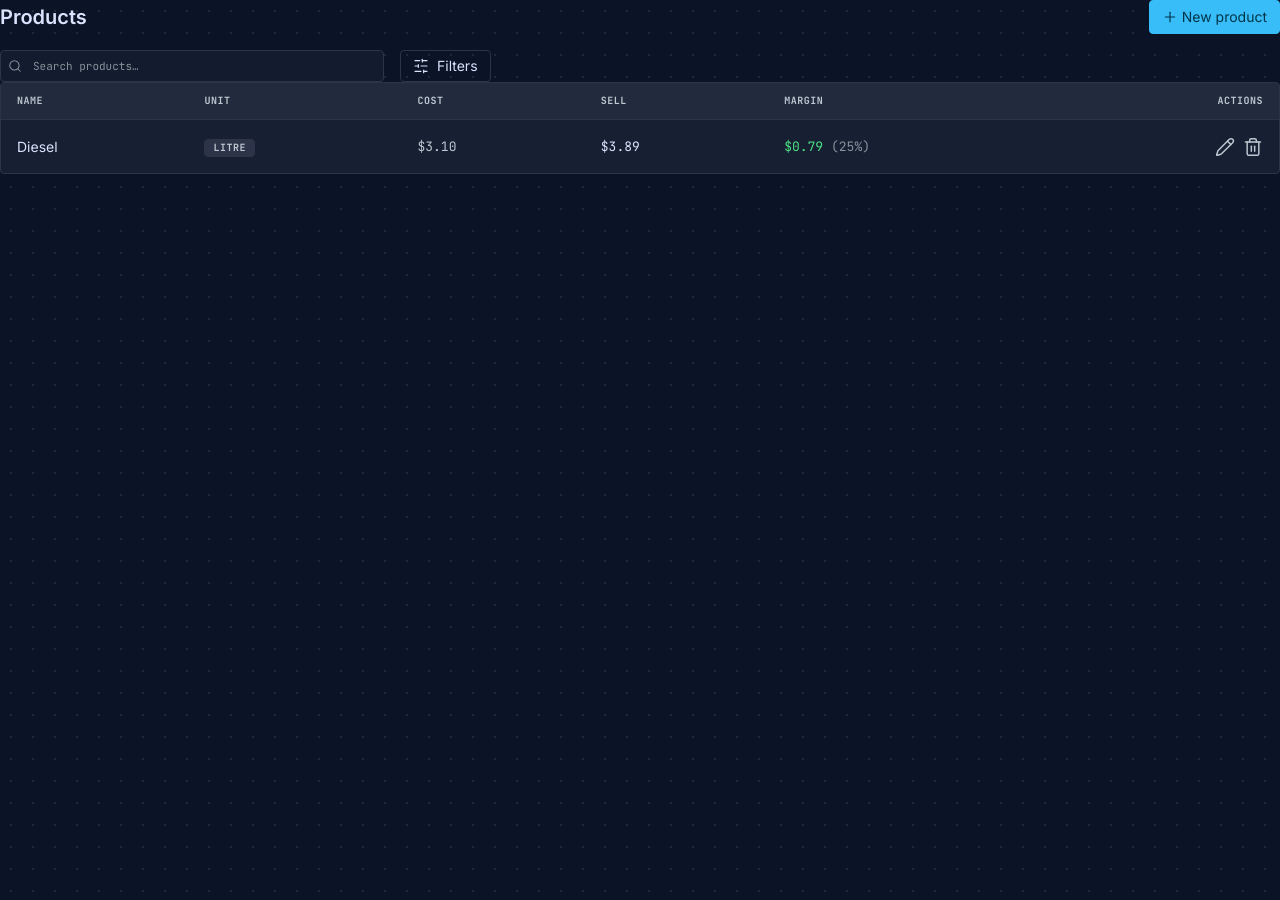
Test: Products page › requires a name
Expected: the text "Diesel" is shown, [1,120,188,173]
Click the button "New product" at (1214, 17), box [1149,0,1279,34]
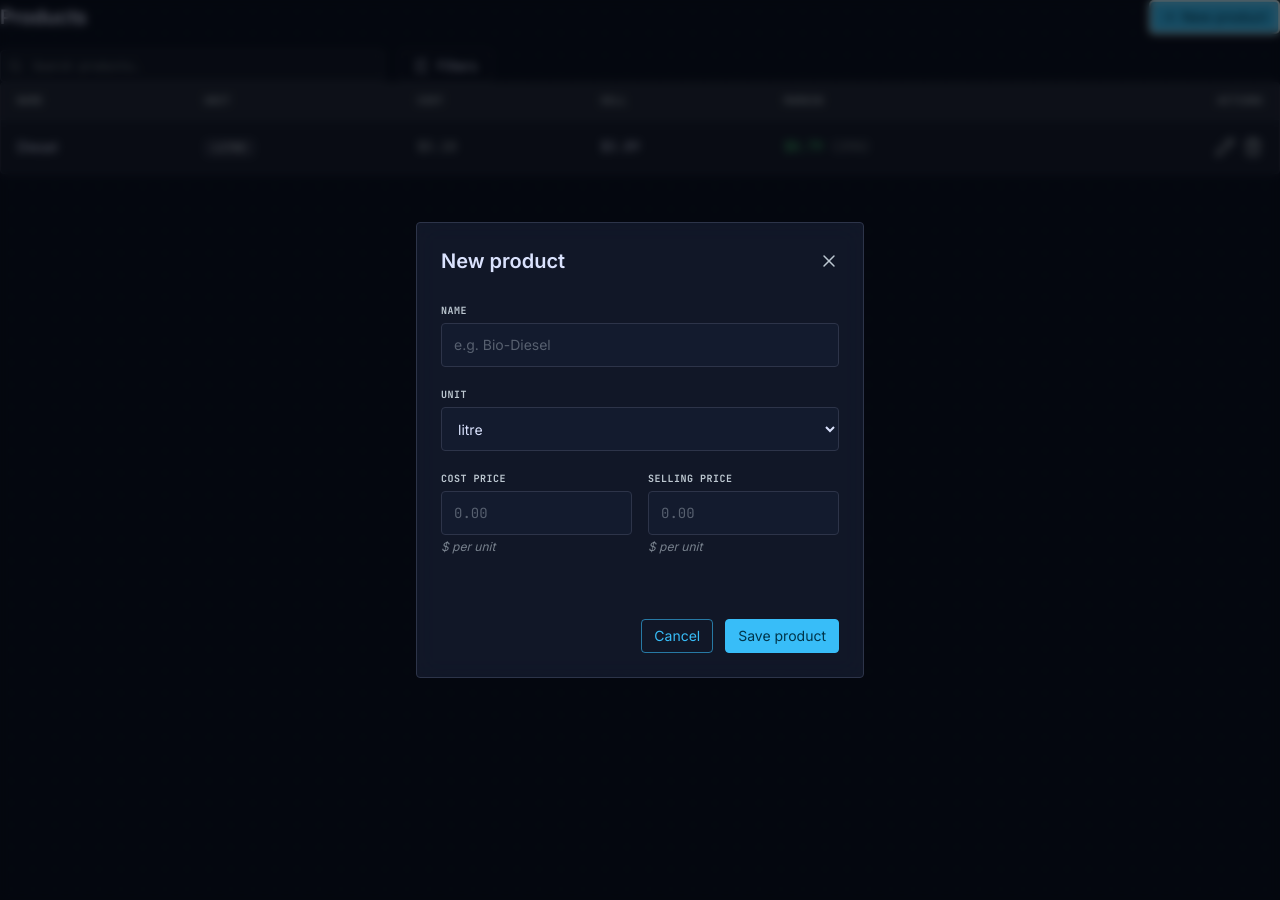
Click the button "Save product" at (782, 636), box [725,619,839,653]
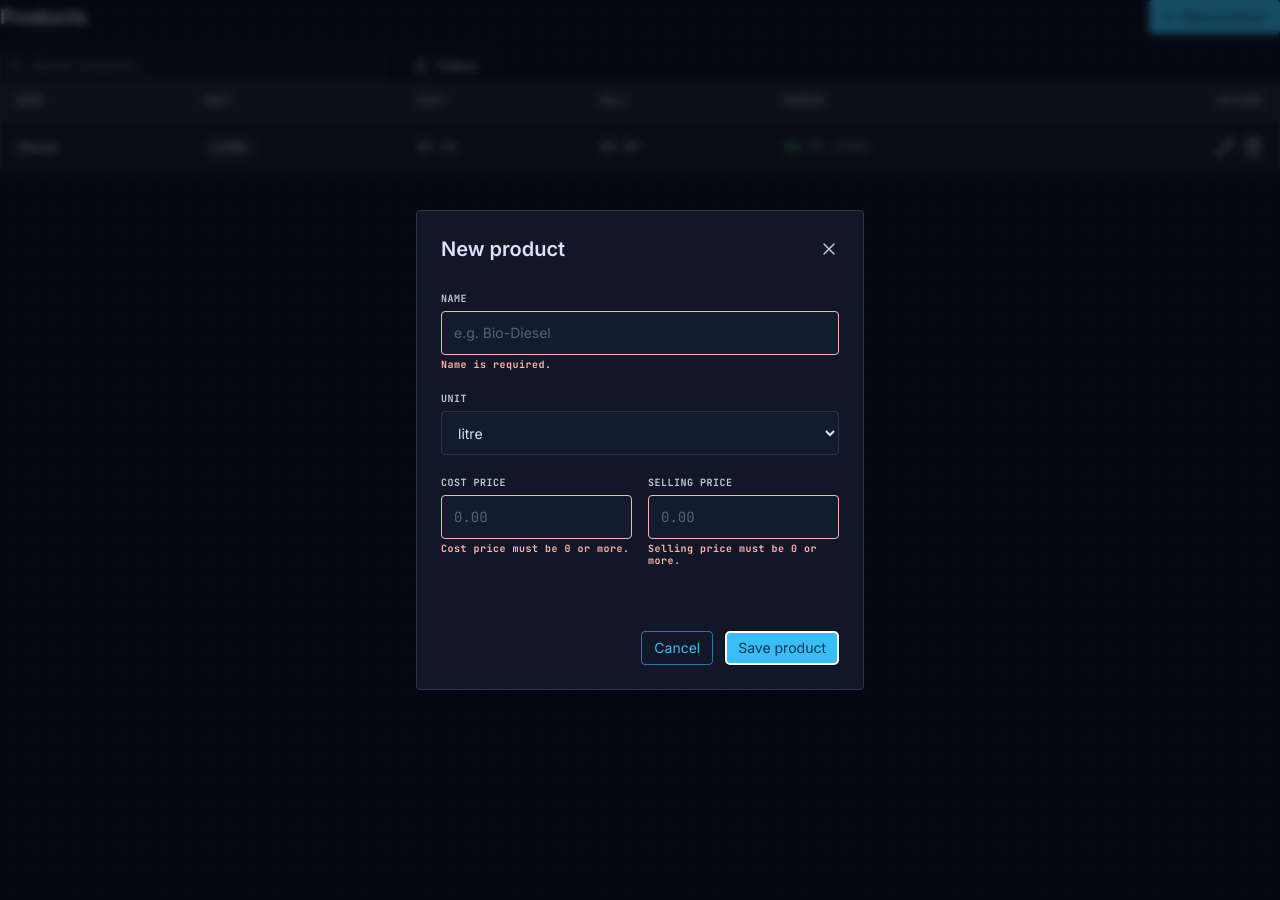
Expected: the text "Name is required." is shown, [441,358,552,371]
